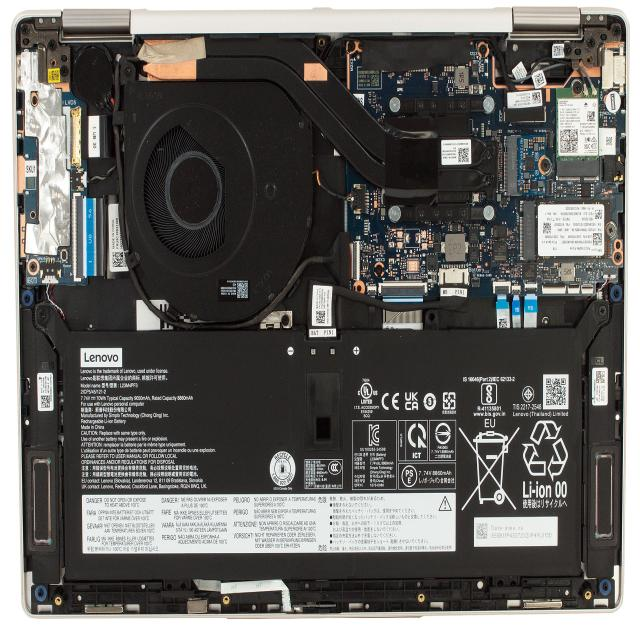battery: (76, 337, 568, 564)
innerscrew: (541, 158, 550, 172), (39, 308, 46, 322), (29, 261, 37, 273), (599, 305, 606, 318), (612, 25, 621, 35), (564, 45, 571, 55), (480, 45, 486, 53), (616, 252, 620, 262)
ssd: (522, 200, 614, 260)
wifi: (557, 85, 602, 179)
